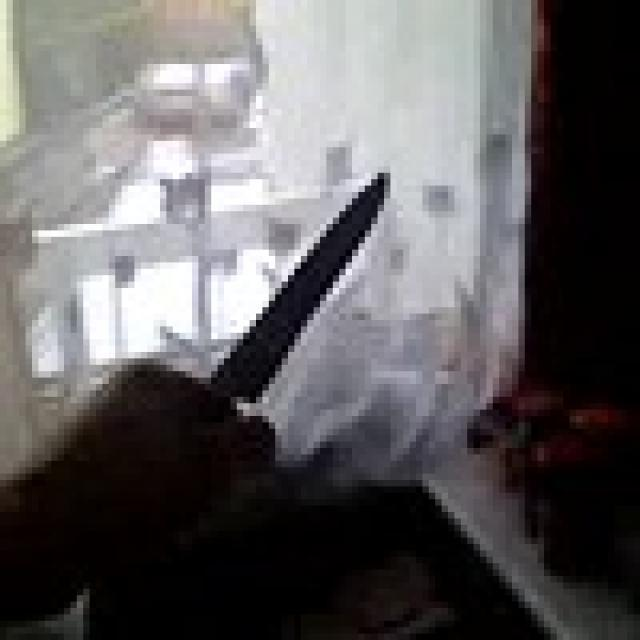knife: (198, 173, 404, 448)
